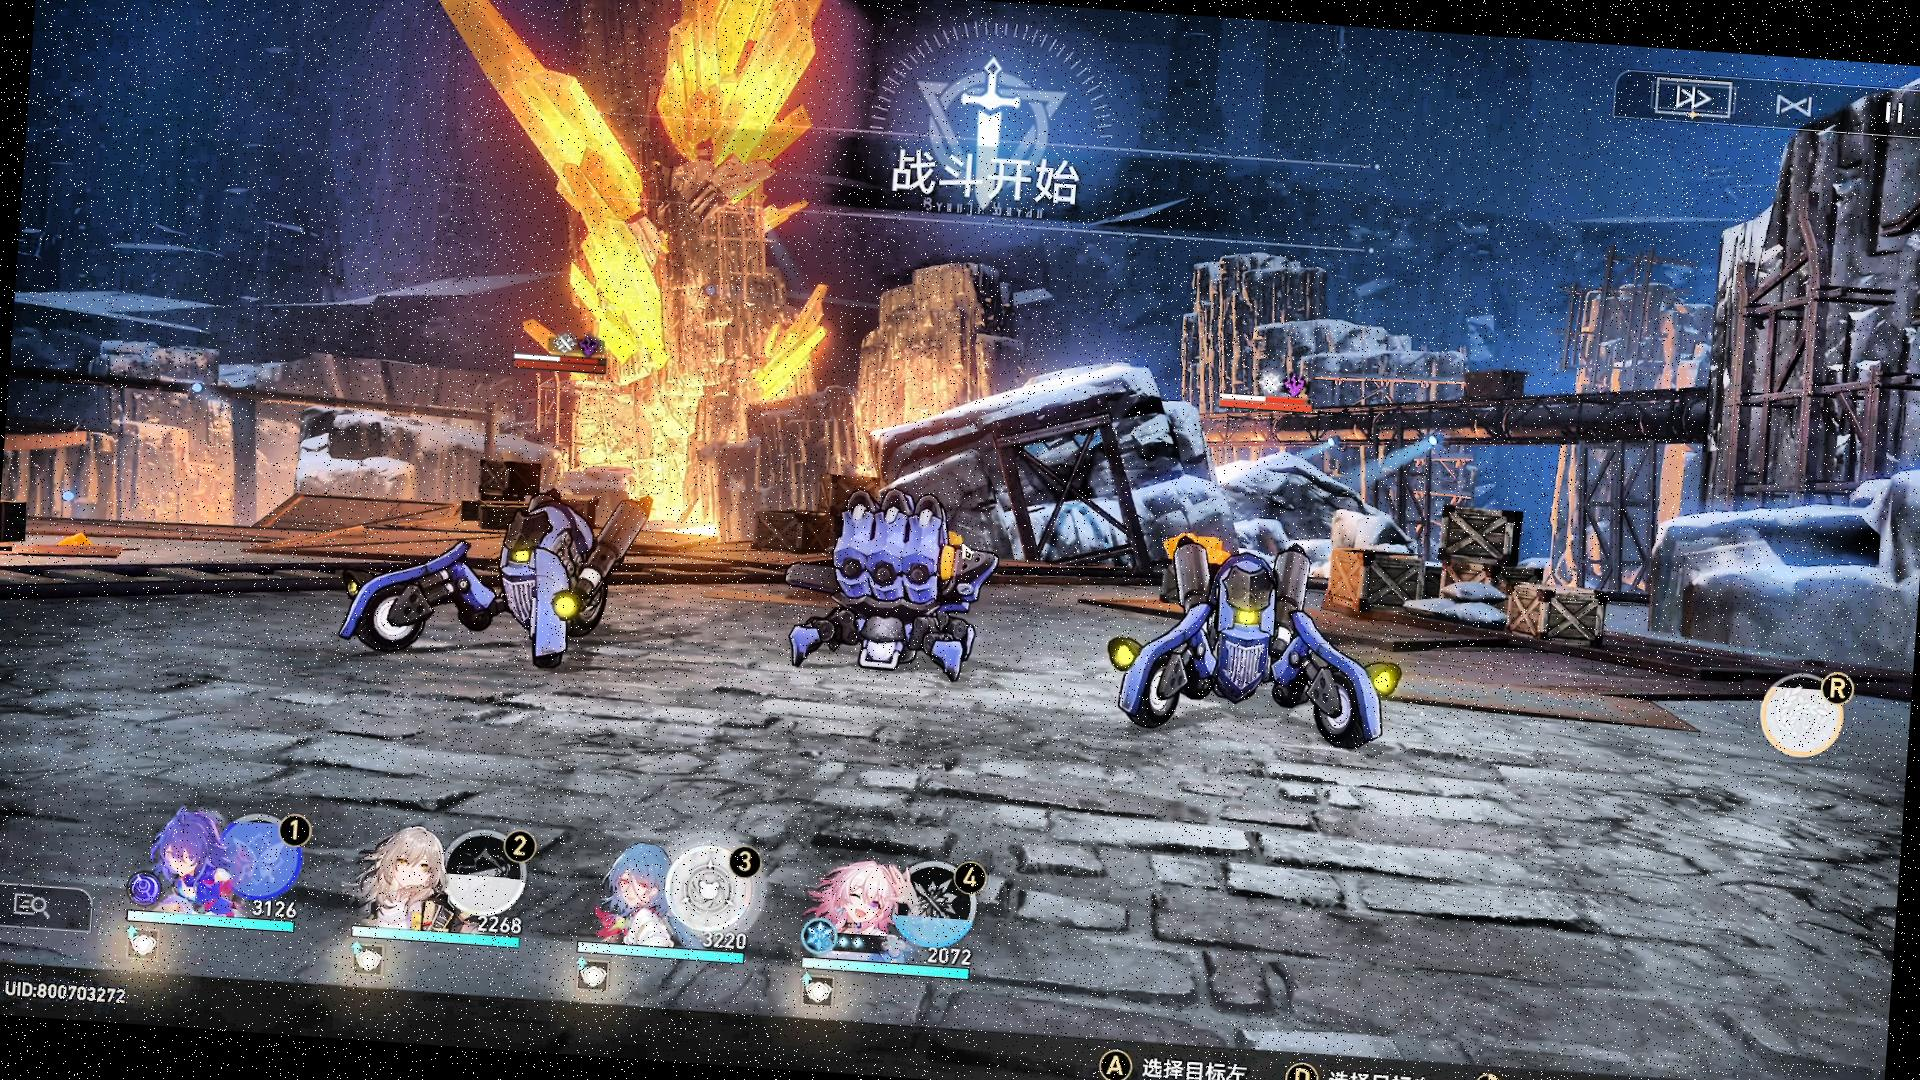Enemy: (1102, 526, 1408, 767), (351, 459, 658, 695), (745, 471, 1014, 713)
